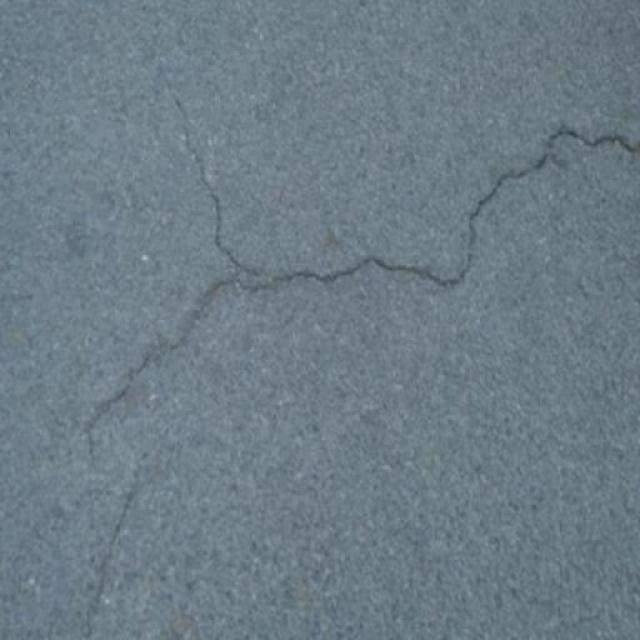Crack: (95, 104, 640, 432)
